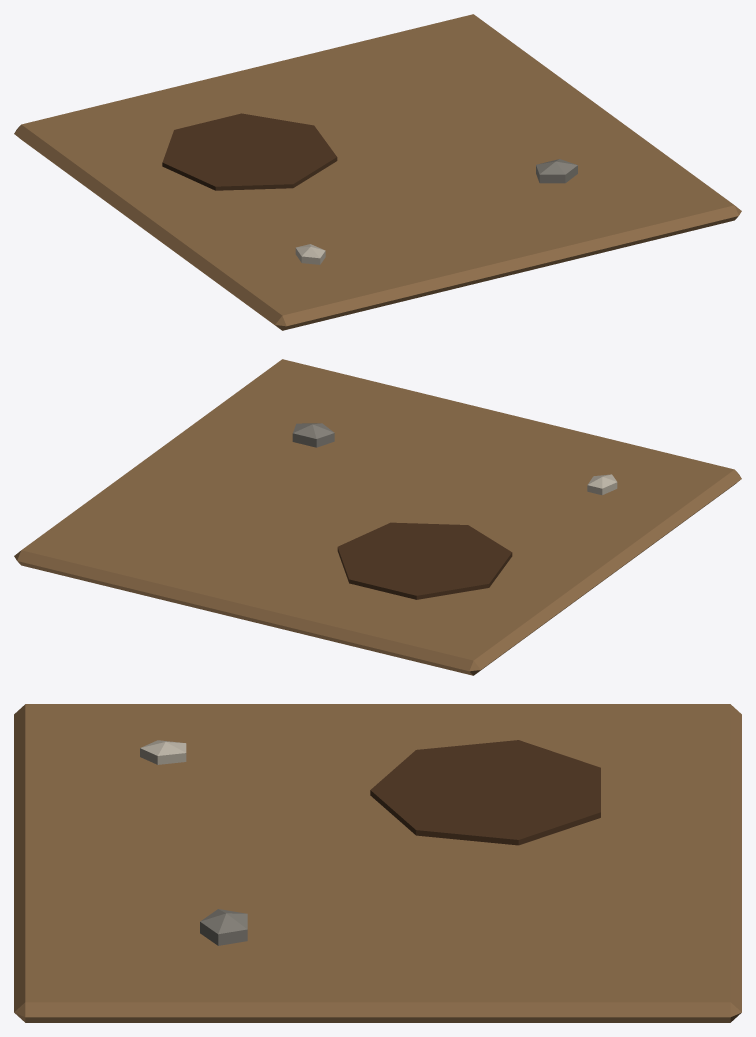
The model's file is road_dirt.fbx.
The picture shows the model from 3 angles, top to bottom: view 1: azimuth 30°, elevation 25°; view 2: azimuth 150°, elevation 25°; view 3: azimuth 270°, elevation 25°; orthographic projection. The views are drawn at different scales.
Visible parts, largest first — view 1: Prop; view 2: Prop; view 3: Prop.
Boxes of the visible parts, x1,y1,x2,y2 form: Prop: (14,14,741,330); Prop: (14,359,741,675); Prop: (14,704,741,1022).
Bounding box in the file's own units: 0.96 × 0.96 × 0.059.
